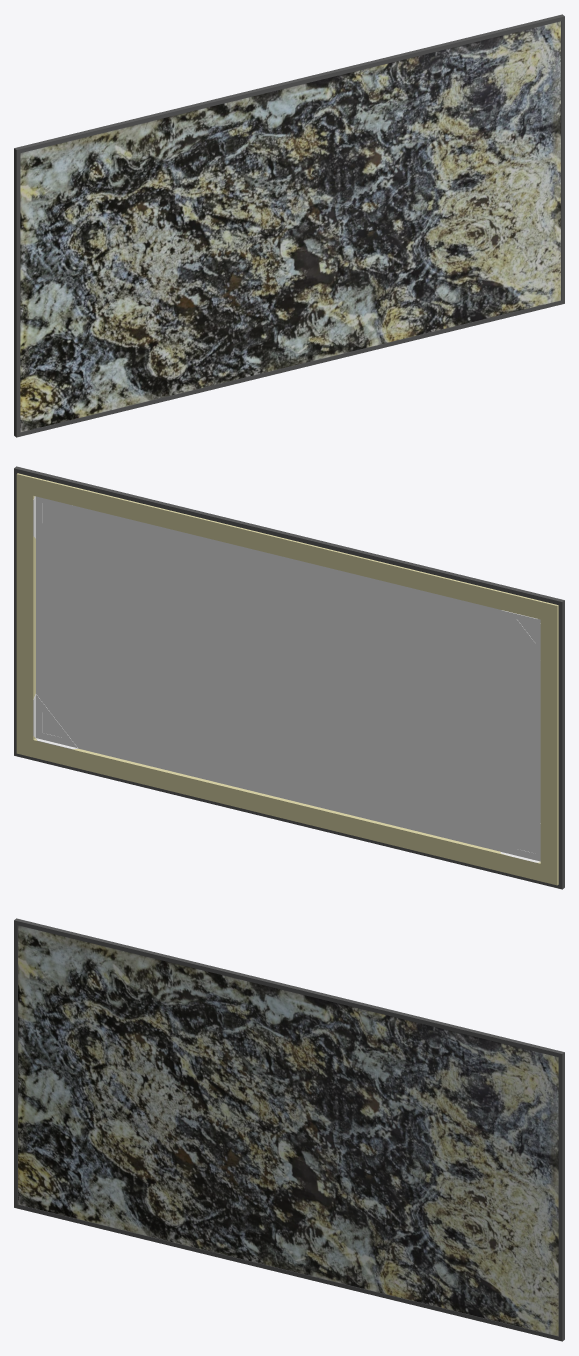
The model's file is Rock_sheet_DARKGOLD.glb.
3 views of the same model, one above another, from view 1: azimuth 30°, elevation 25°; view 2: azimuth 150°, elevation 25°; view 3: azimuth 330°, elevation 25° (orthographic).
Visible parts, largest first — view 1: Group15, Group7, Group5, Group8, Group6; view 2: Group13, Group2, Group7, Group8, Group5, Group10, Group6, Group9, Group11, Group12; view 3: Group15, Group7, Group5, Group6, Group8.
Part boxes in pixels (bbox=[...]): Group15: bbox=[20, 21, 560, 432]; Group7: bbox=[14, 14, 564, 152]; Group5: bbox=[17, 300, 564, 437]; Group8: bbox=[14, 148, 20, 437]; Group6: bbox=[561, 17, 564, 303]; Group13: bbox=[36, 503, 540, 853]; Group2: bbox=[16, 473, 558, 885]; Group7: bbox=[14, 466, 564, 604]; Group8: bbox=[558, 600, 564, 889]; Group5: bbox=[14, 753, 561, 889]; Group10: bbox=[33, 694, 77, 749]; Group6: bbox=[14, 469, 17, 755]; Group9: bbox=[33, 496, 75, 538]; Group11: bbox=[500, 820, 540, 862]; Group12: bbox=[501, 610, 540, 660]; Group15: bbox=[18, 925, 558, 1336]; Group7: bbox=[14, 918, 564, 1056]; Group5: bbox=[14, 1204, 561, 1341]; Group6: bbox=[558, 1052, 564, 1341]; Group8: bbox=[14, 921, 17, 1207].
Bounding box in the file's own units: 2444 × 1224 × 29.
Materials: 11 (1 with a texture image).
